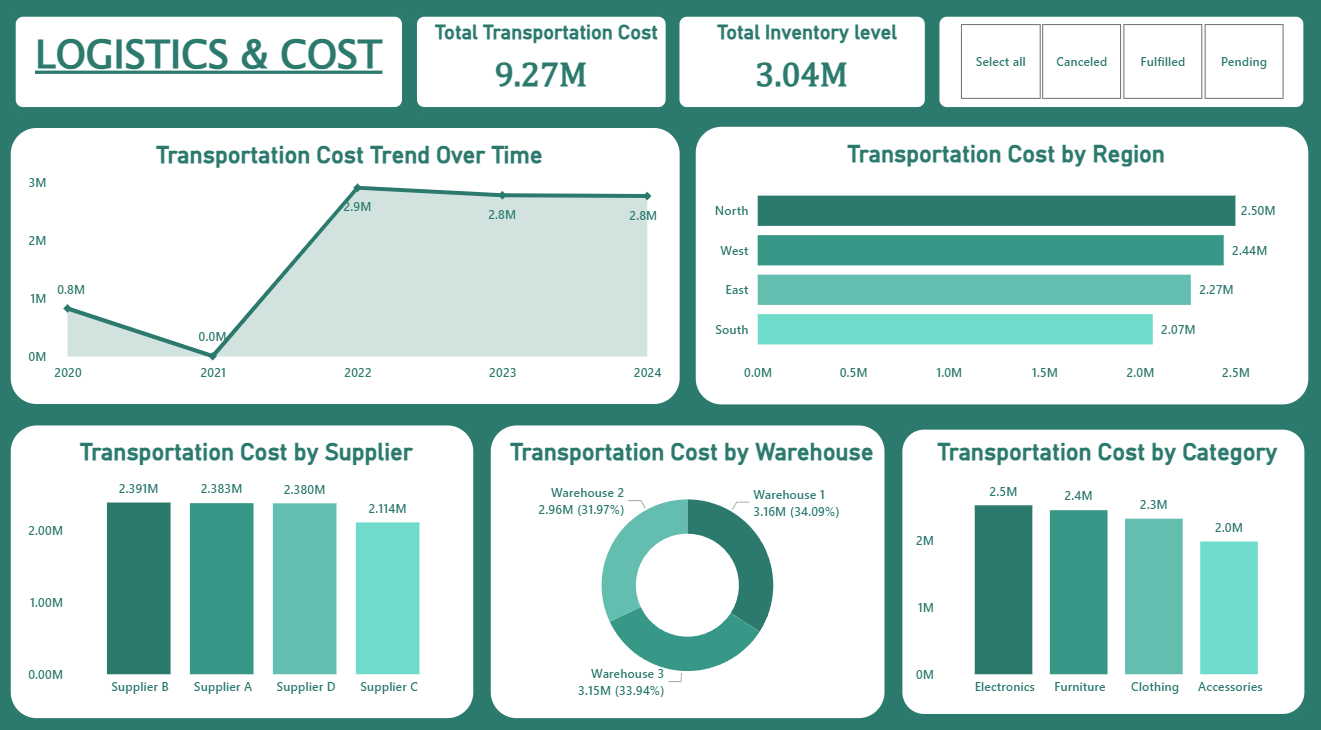

The dashboard page shown, as its layout file describes it:
{"tool":"powerbi","page":{"name":"LOGISTICS & COST","canvas":[1280,720],"ordinal":3},"visuals":[{"type":"card","title":"Total Transportation Cost","fields":{"Values":["Sum(inventory_operations.transportation_cost)"]},"box":[400.5,22.9,249.7,96.5],"z":0},{"type":"card","title":"Total Inventory level","fields":{"Values":["Sum(inventory_operations.inventory_level)"]},"box":[653.9,22.9,246.1,96.5],"z":1000},{"type":"lineChart","title":"Transportation Cost Trend Over Time","fields":{"Category":["inventory_operations.date.Variation.Date Hierarchy.Year"],"Y":["Sum(inventory_operations.transportation_cost)"]},"box":[13.3,135.1,645.4,266.6],"z":2000},{"type":"clusteredBarChart","title":"Transportation Cost by Region","fields":{"Category":["inventory_operations.region"],"Y":["Sum(inventory_operations.transportation_cost)"]},"box":[674.4,133.9,591.2,267.8],"z":3000},{"type":"clusteredColumnChart","title":"Transportation Cost by Supplier","fields":{"Category":["inventory_operations.supplier"],"Y":["Sum(inventory_operations.transportation_cost)"]},"box":[13.3,422.3,446.4,282.3],"z":4000},{"type":"donutChart","title":"Transportation Cost by Warehouse","fields":{"Category":["inventory_operations.warehouse"],"Y":["Sum(inventory_operations.transportation_cost)"]},"box":[476.5,422.3,380,282.3],"z":5000},{"type":"clusteredColumnChart","title":"Transportation Cost by Category","fields":{"Y":["Sum(inventory_operations.transportation_cost)"],"Category":["inventory_operations.category"]},"box":[869.8,422.3,395.7,282.3],"z":6000},{"type":"slicer","fields":{"Values":["inventory_operations.order_status"]},"box":[904.8,22.9,360.7,96.5],"z":7000},{"type":"textbox","box":[13.3,22.9,382.4,96.5],"z":8000}]}

Visuals, with their boxes in screenshot pixels (x1, y1, x2, y2), scaled from the page's 1280x720 canvas onto the 1321x730 screenshot:
"Total Transportation Cost" card: rect(413, 23, 671, 121)
"Total Inventory level" card: rect(675, 23, 929, 121)
"Transportation Cost Trend Over Time" lineChart: rect(14, 137, 680, 407)
"Transportation Cost by Region" clusteredBarChart: rect(696, 136, 1306, 407)
"Transportation Cost by Supplier" clusteredColumnChart: rect(14, 428, 474, 714)
"Transportation Cost by Warehouse" donutChart: rect(492, 428, 884, 714)
"Transportation Cost by Category" clusteredColumnChart: rect(898, 428, 1306, 714)
slicer - inventory_operations.order_status: rect(934, 23, 1306, 121)
textbox: rect(14, 23, 408, 121)
